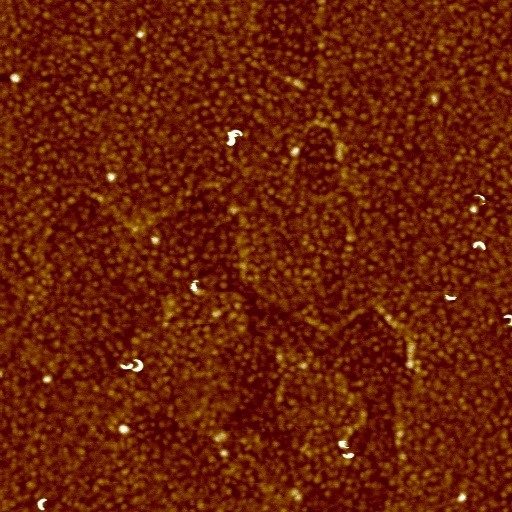-1: (225, 127, 243, 148), (117, 422, 132, 436), (189, 278, 201, 293), (337, 438, 349, 451), (106, 170, 117, 183), (150, 234, 161, 246), (10, 72, 20, 84), (136, 29, 146, 38), (43, 374, 52, 384)
1/4: (472, 191, 490, 203), (341, 450, 356, 461), (444, 293, 457, 302)
2/4: (36, 494, 51, 512), (133, 356, 147, 375), (471, 238, 487, 253), (503, 312, 511, 327)
